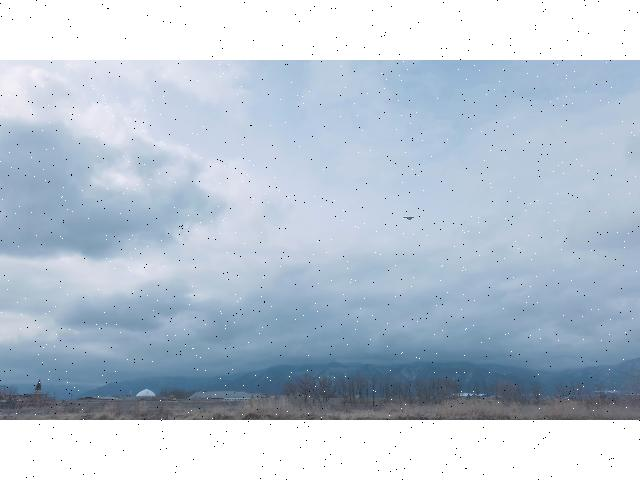Anti-Drone: (400, 213, 416, 223)
